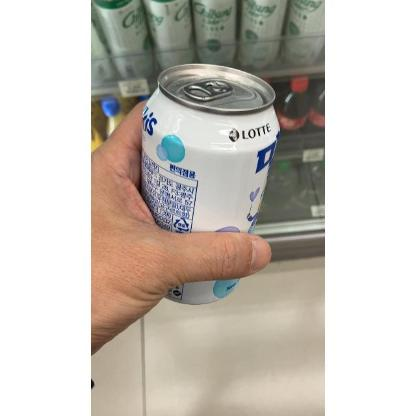Can: (136, 60, 282, 308)
